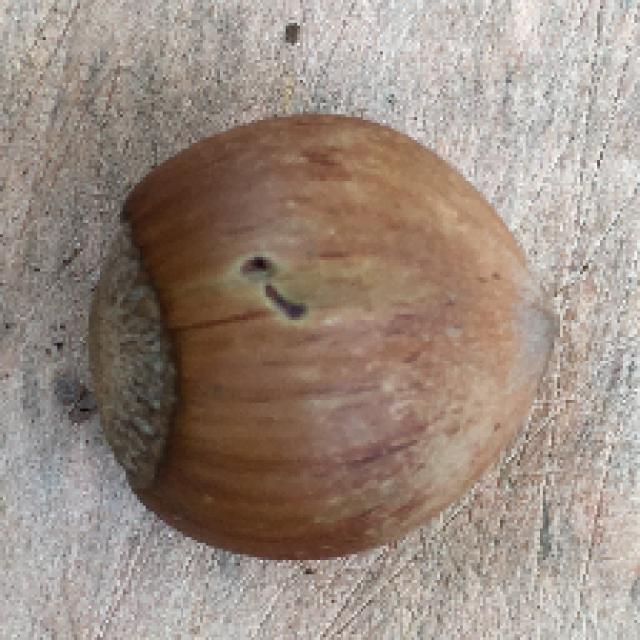qualityHazelnut: (84, 108, 563, 564)
